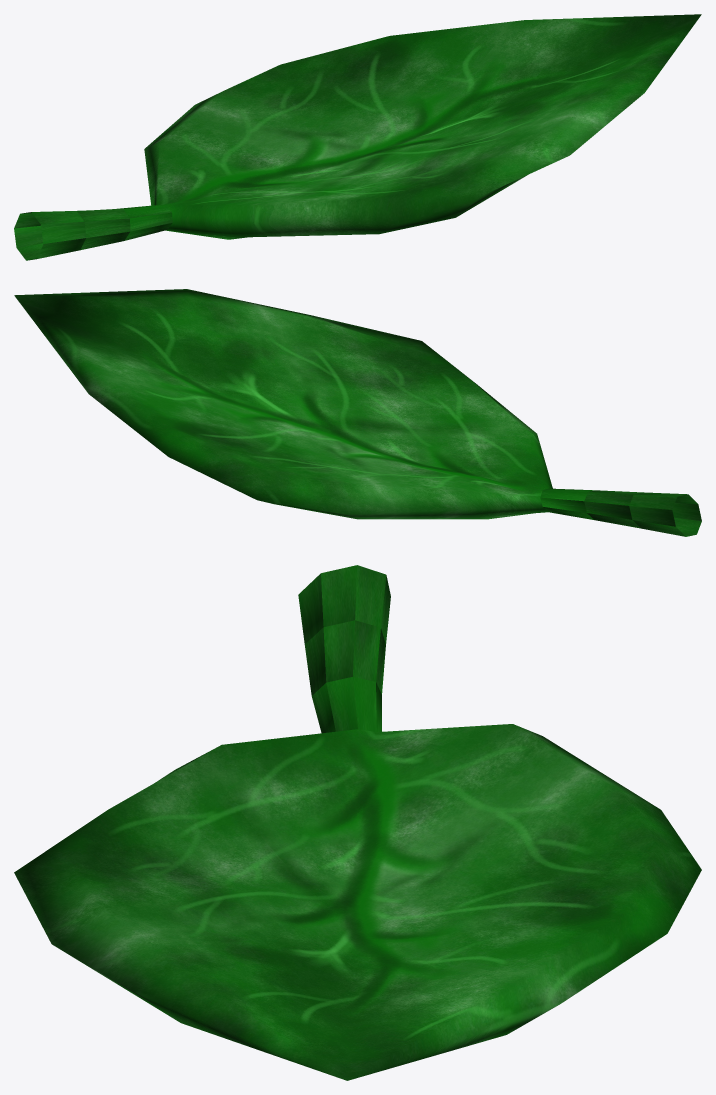
The model's file is leaf_3.FBX.
The picture shows the model from 3 angles, top to bottom: view 1: azimuth 30°, elevation 25°; view 2: azimuth 150°, elevation 25°; view 3: azimuth 270°, elevation 25°; orthographic projection. The views are drawn at different scales.
Visible parts, largest first — view 1: Cylinder003; view 2: Cylinder003; view 3: Cylinder003.
Part boxes in pixels (x1=…): Cylinder003: x1=14, y1=14, x2=701, y2=260; Cylinder003: x1=14, y1=289, x2=701, y2=536; Cylinder003: x1=14, y1=565, x2=701, y2=1080.
Bounding box in the file's own units: 30.07 × 4.63 × 14.76.
Materials: 1 (1 with a texture image).
